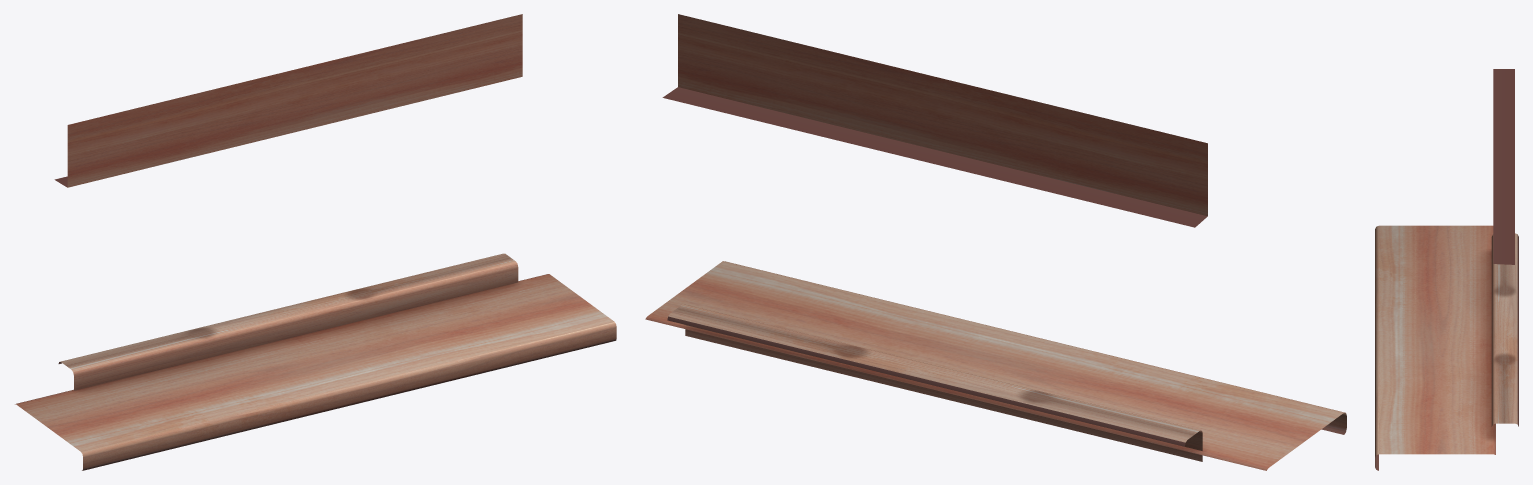
Rendered from interior_6.fbx.
3 views of the same model, side by side, from view 1: azimuth 30°, elevation 25°; view 2: azimuth 150°, elevation 25°; view 3: azimuth 270°, elevation 25° (orthographic). The views are drawn at different scales.
Visible parts, largest first — view 1: Cube.013, Cube.020, Cube.011; view 2: Cube.020, Cube.013, Cube.011; view 3: Cube.013, Cube.011, Cube.020.
Part boxes in pixels (box(x1,y1,x2,y2)): Cube.013: box(15, 274, 616, 470); Cube.020: box(54, 14, 522, 187); Cube.011: box(58, 253, 518, 390); Cube.020: box(662, 14, 1207, 227); Cube.013: box(645, 261, 1346, 470); Cube.011: box(667, 304, 1202, 461); Cube.013: box(1375, 225, 1495, 470); Cube.011: box(1491, 233, 1518, 426); Cube.020: box(1493, 69, 1514, 264).
Size of the model in its own units: 5.44 by 2.78 by 1.45.
